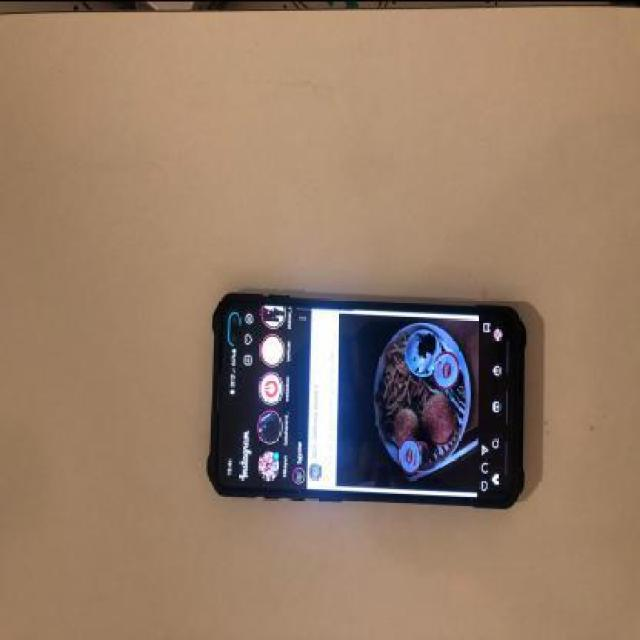mobile: (203, 289, 529, 505)
